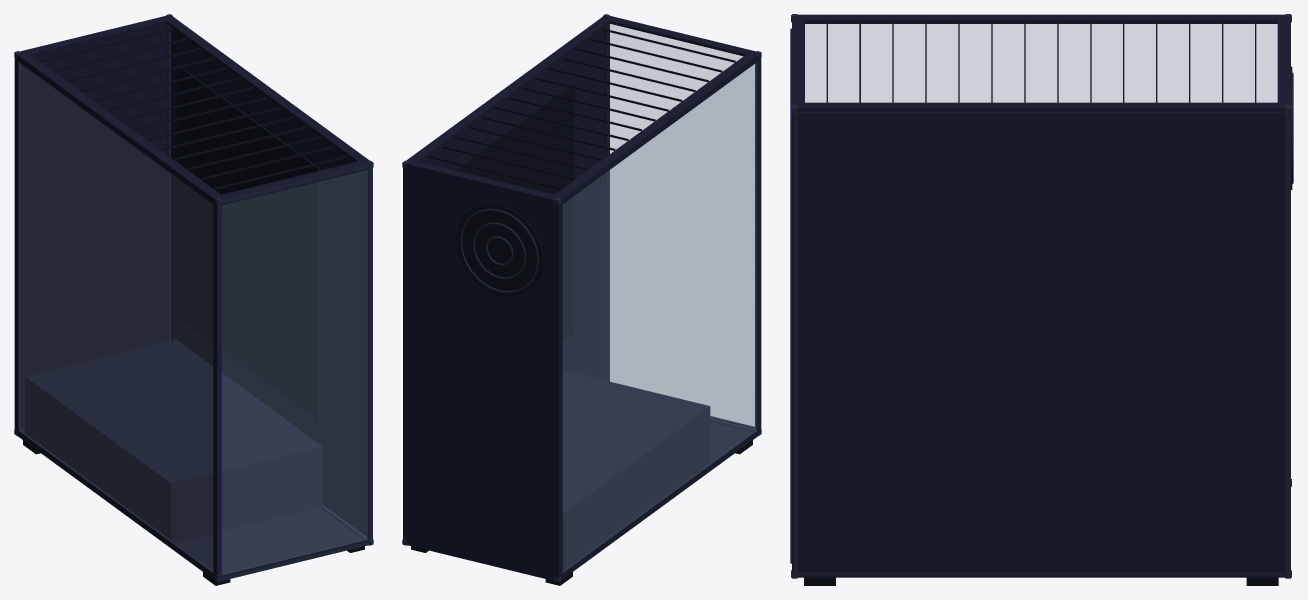
The model's file is case-fulltower.glb.
The picture shows the model from 3 angles, left to right: view 1: azimuth 30°, elevation 25°; view 2: azimuth 150°, elevation 25°; view 3: azimuth 270°, elevation 25°; orthographic projection. The views are drawn at different scales.
Parts seen in each view (by area): view 1: panel_glass_left, front_glass, panel_rear, psu_shroud, mobo_tray, panel_right, left_frame, top_rim, frame_rails, panel_bottom, top_vent_slats, front_rgb_strips (+1 smaller); view 2: panel_glass_left, panel_rear, front_glass, psu_shroud, panel_right, mobo_tray, left_frame, top_rim, rear_fan_cutout, top_vent_slats, frame_rails, rear_fan_grill (+2 smaller); view 3: panel_right, panel_glass_left, top_rim, frame_rails, top_vent_slats, panel_bottom, front_frame, front_rgb_strips.
Part boxes in pixels (x1=…): panel_glass_left: x1=19, y1=63, x2=212, y2=572; front_glass: x1=222, y1=170, x2=367, y2=574; panel_rear: x1=21, y1=23, x2=167, y2=428; psu_shroud: x1=25, y1=339, x2=322, y2=542; mobo_tray: x1=177, y1=65, x2=320, y2=420; panel_right: x1=171, y1=27, x2=366, y2=536; left_frame: x1=14, y1=53, x2=217, y2=579; top_rim: x1=17, y1=15, x2=369, y2=199; frame_rails: x1=14, y1=14, x2=373, y2=582; panel_bottom: x1=24, y1=432, x2=363, y2=574; top_vent_slats: x1=40, y1=28, x2=347, y2=189; front_rgb_strips: x1=219, y1=174, x2=371, y2=571; panel_glass_left: x1=563, y1=62, x2=757, y2=572; panel_rear: x1=404, y1=164, x2=558, y2=580; front_glass: x1=610, y1=24, x2=754, y2=426; psu_shroud: x1=562, y1=370, x2=710, y2=570; panel_right: x1=403, y1=27, x2=604, y2=540; mobo_tray: x1=454, y1=82, x2=574, y2=342; left_frame: x1=557, y1=53, x2=761, y2=581; top_rim: x1=406, y1=15, x2=758, y2=202; rear_fan_cutout: x1=456, y1=203, x2=543, y2=297; top_vent_slats: x1=428, y1=28, x2=735, y2=189; frame_rails: x1=402, y1=14, x2=761, y2=582; rear_fan_grill: x1=460, y1=208, x2=538, y2=293; panel_right: x1=797, y1=113, x2=1285, y2=572; panel_glass_left: x1=805, y1=24, x2=1277, y2=102; top_rim: x1=792, y1=15, x2=1290, y2=111; frame_rails: x1=791, y1=14, x2=1291, y2=578; top_vent_slats: x1=826, y1=22, x2=1256, y2=102; panel_bottom: x1=797, y1=575, x2=1285, y2=577; front_frame: x1=792, y1=114, x2=794, y2=572; front_rgb_strips: x1=790, y1=28, x2=791, y2=563.
Bounding box in the file's own units: 237 × 563 × 534.
